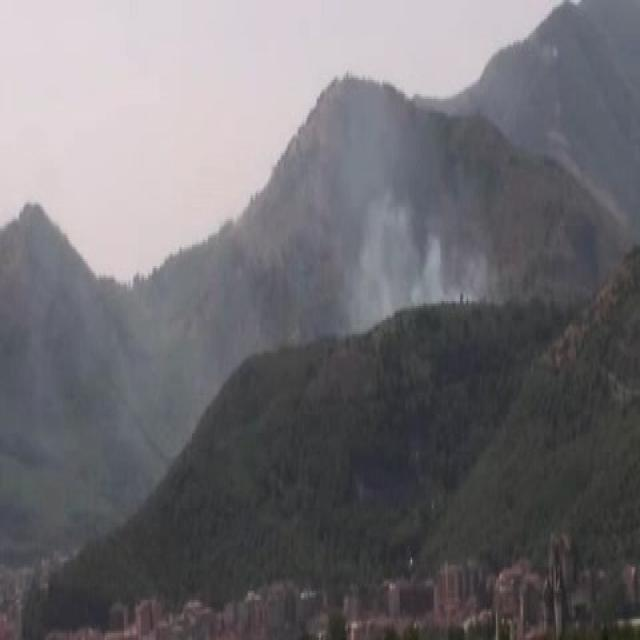Smoke: (316, 118, 490, 318)
